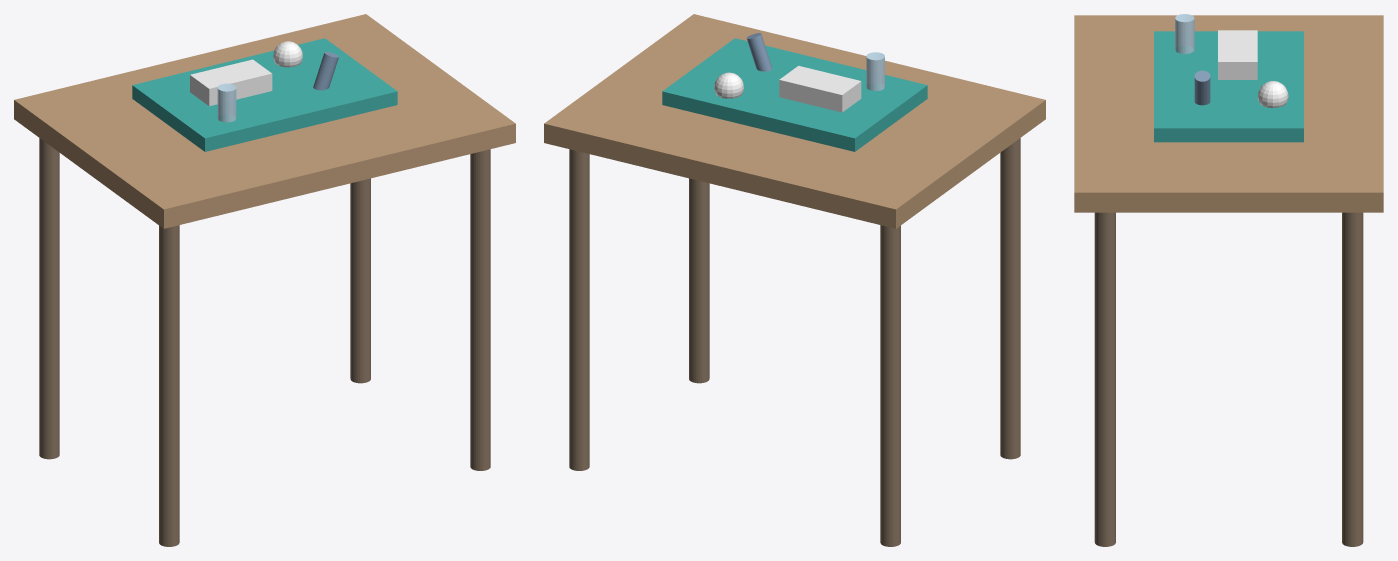
Rendered from prop_mesa.glb.
3 views of the same model, side by side, from view 1: azimuth 30°, elevation 25°; view 2: azimuth 150°, elevation 25°; view 3: azimuth 270°, elevation 25° (orthographic). The views are drawn at different scales.
Visible parts, largest first — view 1: m_top, m_bandeja, m_leg_-0.42_-0.28, m_leg_0.42_-0.28, m_leg_-0.42_0.28, m_leg_0.42_0.28, m_casete, m_frasco, m_algodao, m_lancetador; view 2: m_top, m_bandeja, m_leg_-0.42_0.28, m_leg_0.42_0.28, m_leg_-0.42_-0.28, m_leg_0.42_-0.28, m_casete, m_frasco, m_algodao, m_lancetador; view 3: m_top, m_bandeja, m_leg_0.42_0.28, m_leg_0.42_-0.28, m_casete, m_frasco, m_algodao, m_lancetador.
Part boxes in pixels (box(x1,y1,x2,y2)): m_top: box(14, 14, 515, 228); m_bandeja: box(132, 38, 397, 151); m_leg_-0.42_-0.28: box(159, 225, 179, 546); m_leg_0.42_-0.28: box(470, 149, 490, 470); m_leg_-0.42_0.28: box(39, 138, 59, 459); m_leg_0.42_0.28: box(350, 178, 370, 383); m_casete: box(190, 59, 272, 106); m_frasco: box(217, 83, 236, 122); m_algodao: box(273, 41, 302, 67); m_lancetador: box(313, 52, 338, 90); m_top: box(544, 14, 1045, 228); m_bandeja: box(662, 38, 927, 151); m_leg_-0.42_0.28: box(880, 225, 900, 546); m_leg_0.42_0.28: box(569, 149, 589, 470); m_leg_-0.42_-0.28: box(1000, 138, 1020, 459); m_leg_0.42_-0.28: box(689, 178, 709, 383); m_casete: box(779, 65, 861, 112); m_frasco: box(866, 52, 884, 90); m_algodao: box(714, 72, 743, 98); m_lancetador: box(746, 33, 772, 71); m_top: box(1074, 15, 1383, 212); m_bandeja: box(1154, 31, 1303, 142); m_leg_0.42_0.28: box(1342, 212, 1363, 546); m_leg_0.42_-0.28: box(1094, 212, 1115, 546); m_casete: box(1218, 30, 1257, 79); m_frasco: box(1175, 14, 1194, 53); m_algodao: box(1257, 81, 1288, 107); m_lancetador: box(1194, 70, 1210, 105).
Bounding box in the file's own units: 0.95 × 1.04 × 0.7.
